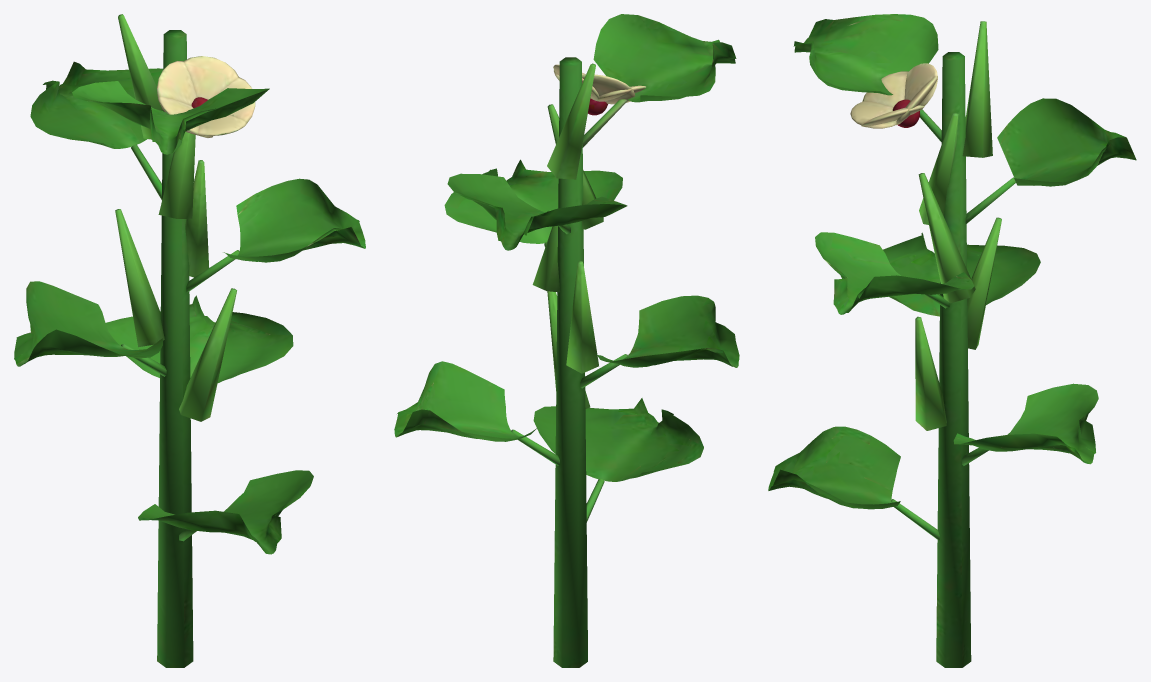
The model's file is crop_okra.glb.
3 renders of one model, left to right at view 1: azimuth 30°, elevation 25°; view 2: azimuth 150°, elevation 25°; view 3: azimuth 270°, elevation 25°, orthographic. The views are drawn at different scales.
Visible parts, largest first — view 1: crop_okra, fruit; view 2: crop_okra, fruit; view 3: crop_okra, fruit.
Part boxes in pixels (bbox=[...]): crop_okra: bbox=[14, 30, 365, 667]; fruit: bbox=[115, 14, 236, 421]; crop_okra: bbox=[394, 14, 739, 667]; fruit: bbox=[532, 63, 603, 408]; crop_okra: bbox=[768, 14, 1136, 667]; fruit: bbox=[915, 21, 1001, 430].
Size of the model in its own units: 0.2116 by 0.4317 by 0.2318.
1 material, 1 textured.
